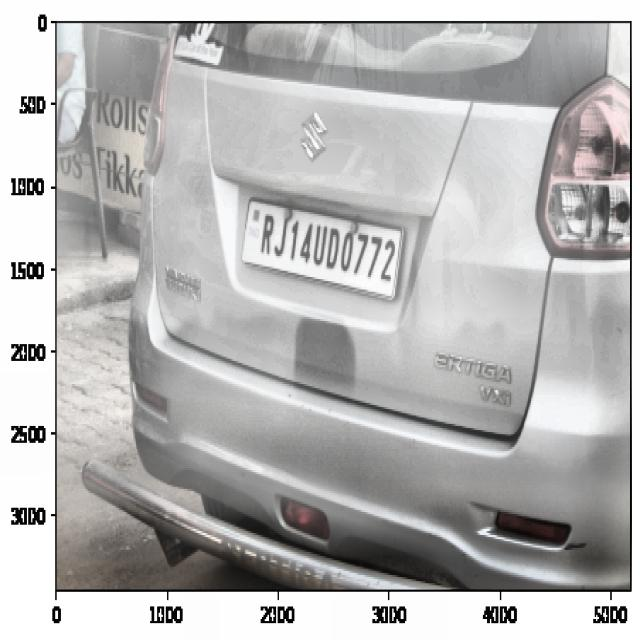license_plate: (257, 208, 403, 293)
